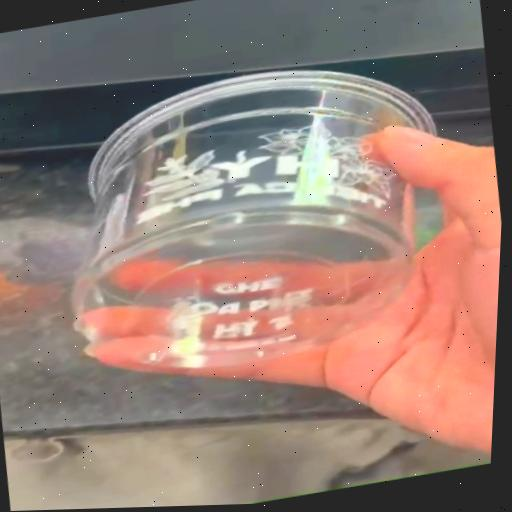ly_nhua: (76, 71, 435, 367)
